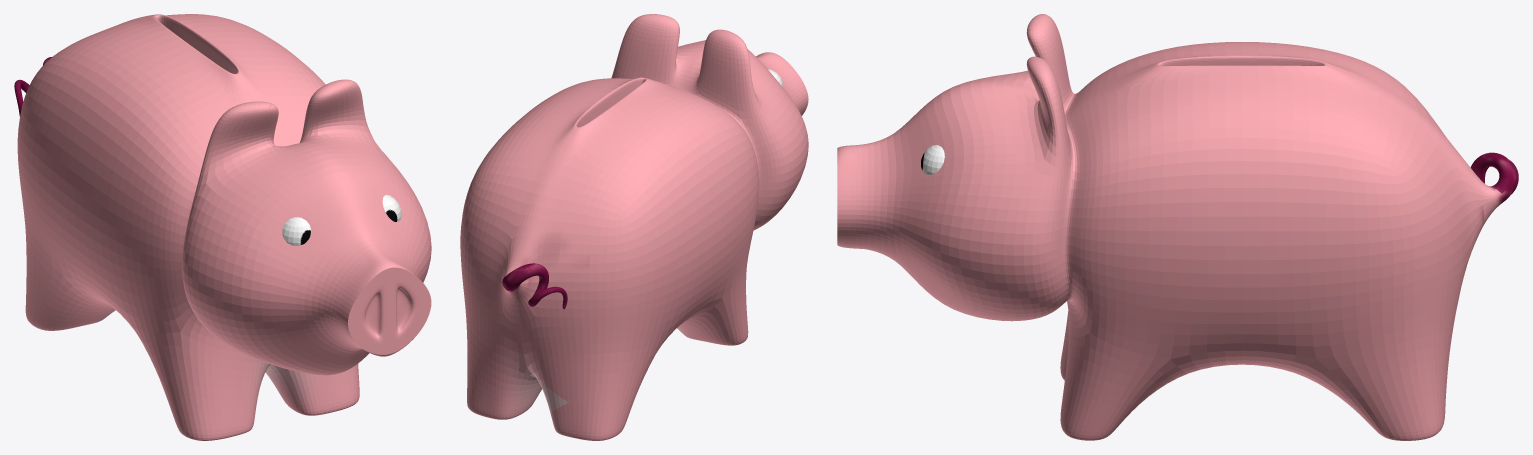
3 renders of one model, left to right at view 1: azimuth 30°, elevation 25°; view 2: azimuth 150°, elevation 25°; view 3: azimuth 270°, elevation 25°, orthographic. The views are drawn at different scales.
Visible parts, largest first — view 1: Pig2, Sphere; view 2: Pig2; view 3: Pig2.
Part boxes in pixels (left/top/right/bottom): Pig2: left=14, top=14, right=431, bottom=440; Sphere: left=282, top=195, right=401, bottom=245; Pig2: left=460, top=14, right=808, bottom=440; Pig2: left=837, top=14, right=1518, bottom=440.
Size of the model in its own units: 1.69 by 2.25 by 3.89.
Materials: 2 (2 with a texture image).
